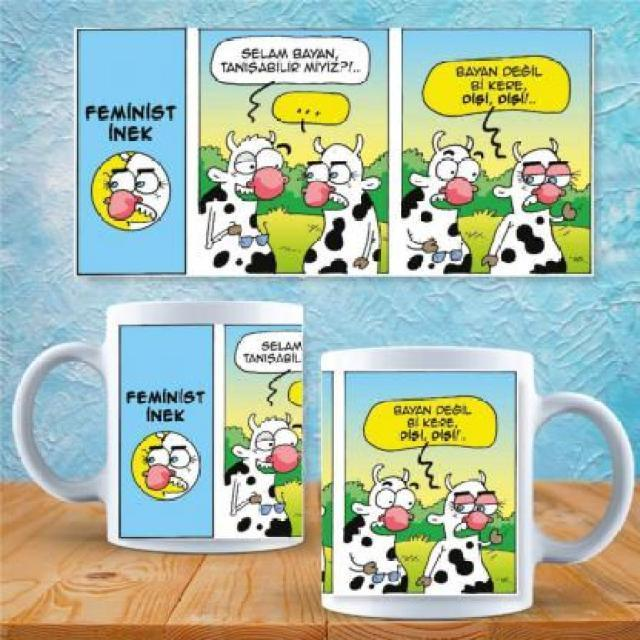taza: (320, 343, 636, 619), (16, 300, 307, 551)
